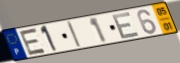1: (39, 24, 59, 53), (89, 16, 109, 44)
6: (136, 8, 158, 35)
E: (18, 27, 48, 57), (111, 10, 141, 40)
I: (66, 20, 83, 49)
